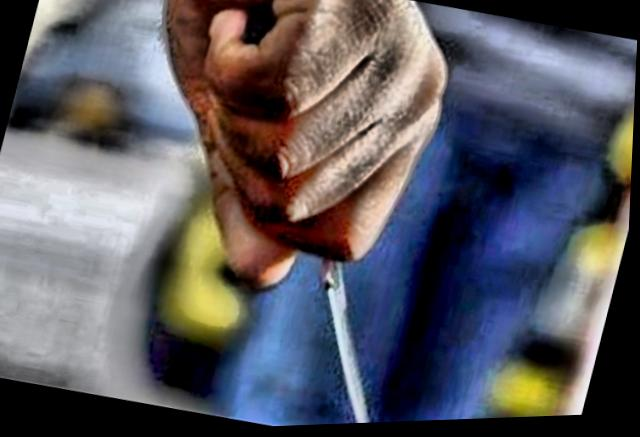knife: (179, 69, 463, 431)
